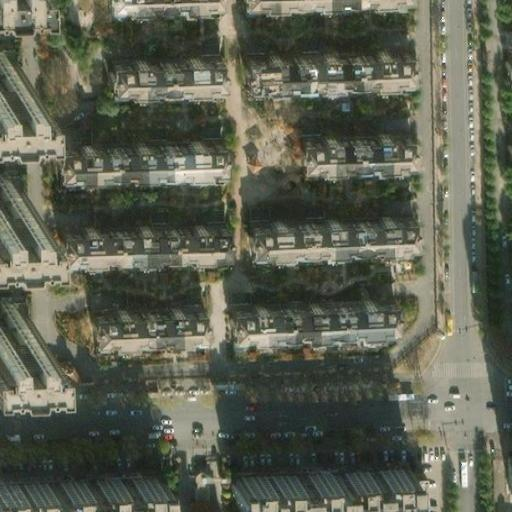building: (50, 133, 217, 170), (227, 465, 403, 500), (240, 43, 401, 80), (220, 294, 382, 329), (51, 215, 216, 249), (241, 210, 404, 242), (84, 300, 197, 335), (293, 125, 401, 160), (103, 48, 208, 83), (307, 274, 357, 296), (0, 295, 22, 332), (0, 170, 14, 206), (0, 51, 11, 77)
